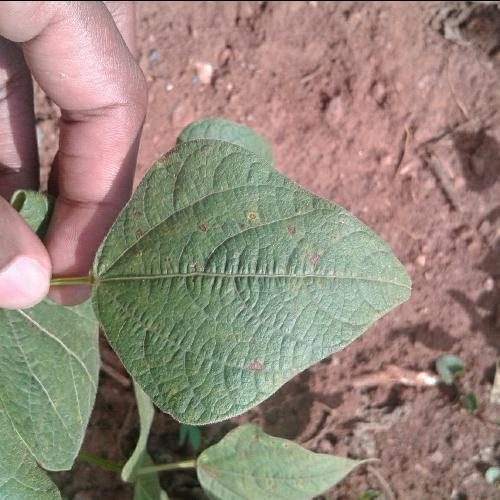embun tepung: (128, 160, 317, 410)
